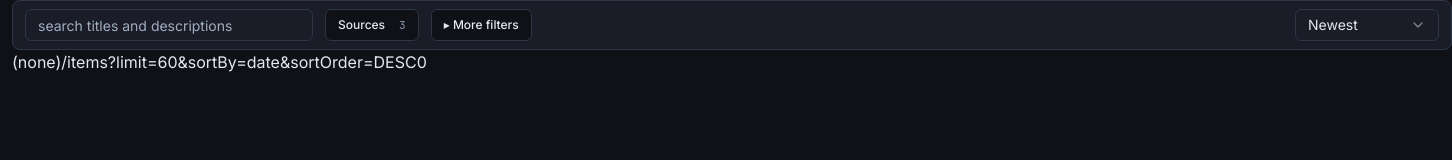
Test case: the drawer label counts ACTIVE filters, not available ones › says how much of the feed is hidden, never how many controls exist
Click the button "▸ More filters".
click(481, 25)  # box [431,9,532,41]
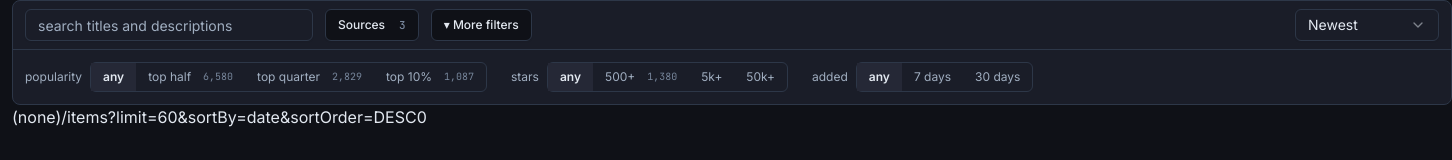
Click the button "top 10% 1,087".
click(430, 77)  # box [374,63,486,91]
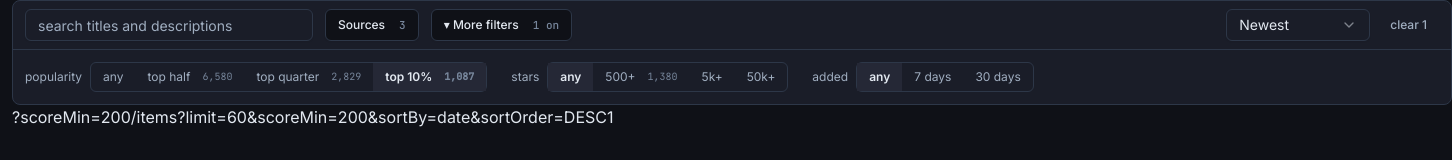
Expected: the button "▾ More filters 1 on" is shown, [431,9,572,41]
